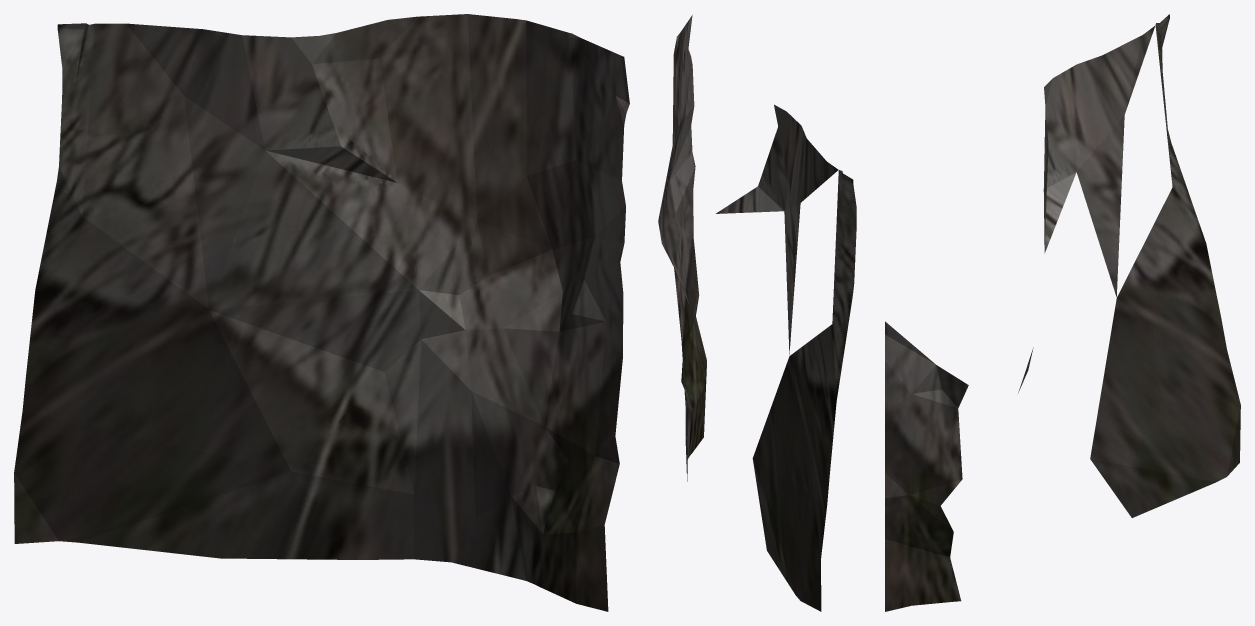
3 renders of one model, left to right at view 1: azimuth 30°, elevation 25°; view 2: azimuth 150°, elevation 25°; view 3: azimuth 270°, elevation 25°, orthographic. The views are drawn at different scales.
Bounding box in the file's own units: 0.6313 × 0.8374 × 0.6017.
3 materials, 3 textured.
